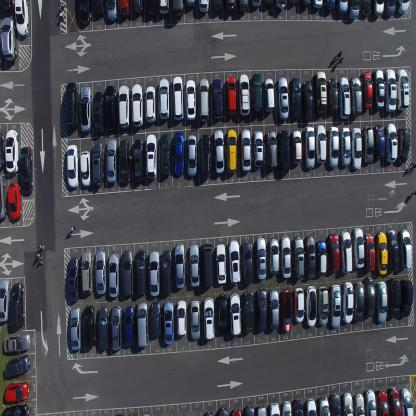car: (1, 15, 17, 61), (9, 281, 24, 329), (19, 146, 34, 194), (121, 249, 135, 298), (5, 354, 30, 379), (14, 0, 30, 38), (7, 182, 22, 222), (3, 332, 31, 353), (228, 239, 241, 284), (172, 74, 184, 122), (145, 132, 157, 180), (148, 250, 160, 298), (110, 304, 122, 352), (66, 144, 79, 188), (4, 380, 30, 402), (5, 129, 18, 173), (104, 85, 116, 132), (80, 85, 92, 132), (135, 249, 147, 296), (280, 289, 293, 332), (340, 230, 353, 273), (387, 230, 400, 273), (173, 130, 185, 176), (277, 75, 289, 121), (315, 70, 327, 116), (131, 82, 143, 128), (92, 141, 104, 187), (95, 249, 107, 295), (68, 256, 80, 302), (83, 304, 95, 350), (70, 306, 82, 352), (203, 296, 215, 341), (238, 73, 250, 118), (256, 287, 268, 332), (230, 292, 242, 337), (329, 283, 341, 328), (293, 235, 305, 280), (375, 230, 387, 275), (278, 129, 290, 174), (290, 75, 302, 120), (385, 67, 397, 112), (118, 84, 130, 129), (66, 82, 78, 127), (108, 252, 120, 297), (81, 250, 93, 295), (98, 305, 110, 350), (251, 72, 263, 116), (188, 243, 200, 287), (202, 241, 213, 289), (342, 280, 354, 324), (353, 226, 365, 270), (301, 78, 313, 122), (119, 140, 131, 184), (137, 300, 148, 348), (350, 126, 362, 170), (399, 228, 412, 268), (226, 127, 237, 174), (161, 249, 172, 296), (225, 75, 237, 118), (268, 289, 280, 332), (338, 75, 350, 118), (397, 68, 409, 111), (132, 139, 144, 182), (213, 128, 224, 174), (200, 133, 211, 179), (106, 138, 117, 184), (174, 244, 185, 290), (163, 300, 174, 346), (0, 277, 11, 323), (215, 242, 227, 284), (305, 284, 317, 326), (388, 276, 400, 318), (158, 78, 170, 120), (123, 305, 135, 347), (240, 127, 251, 172), (242, 240, 253, 285), (243, 289, 254, 334), (305, 234, 316, 279), (304, 125, 315, 170), (79, 149, 92, 187), (317, 285, 329, 326), (328, 232, 340, 273), (364, 232, 376, 273), (350, 76, 362, 117), (386, 122, 398, 163), (280, 235, 291, 279), (376, 280, 387, 324), (93, 90, 104, 134), (397, 126, 410, 163), (315, 124, 327, 164), (339, 127, 351, 167), (212, 76, 223, 119), (185, 78, 196, 121), (256, 237, 267, 280), (364, 275, 375, 318), (373, 67, 384, 110), (160, 133, 171, 176), (362, 125, 374, 164), (217, 294, 228, 336), (328, 126, 339, 168), (199, 77, 209, 123), (263, 77, 275, 114), (187, 134, 197, 178), (401, 277, 412, 317), (266, 129, 277, 169), (293, 287, 305, 323), (354, 280, 364, 323), (253, 129, 264, 168), (176, 299, 187, 338), (190, 299, 200, 341), (387, 386, 401, 416), (269, 237, 280, 275), (327, 77, 338, 115), (362, 70, 372, 110), (291, 129, 302, 165), (400, 387, 414, 415), (317, 238, 327, 276), (145, 86, 155, 124), (151, 300, 161, 338), (374, 124, 385, 158), (376, 388, 389, 415), (78, 0, 92, 25), (3, 403, 30, 415), (364, 388, 376, 415), (0, 174, 7, 220), (317, 395, 331, 415), (342, 392, 354, 415), (106, 0, 118, 22), (330, 392, 341, 415), (172, 0, 185, 19), (348, 0, 360, 20), (354, 392, 364, 416), (384, 0, 397, 18), (372, 0, 385, 18), (360, 0, 372, 18), (145, 0, 157, 18), (118, 0, 130, 18), (92, 0, 104, 18), (305, 397, 317, 415), (396, 0, 409, 16), (293, 398, 304, 416), (0, 0, 15, 13), (336, 0, 348, 16), (158, 0, 169, 17), (198, 0, 210, 15), (224, 0, 236, 14), (132, 0, 144, 14), (281, 400, 292, 415), (269, 401, 280, 415), (0, 130, 4, 168), (324, 0, 335, 13), (238, 0, 249, 13), (312, 0, 323, 11), (275, 0, 286, 11), (244, 404, 255, 415), (256, 404, 267, 415), (213, 0, 223, 12), (217, 406, 228, 416), (299, 0, 311, 9), (250, 0, 261, 8), (185, 0, 196, 8), (288, 0, 298, 8), (264, 0, 274, 8), (231, 407, 241, 415), (202, 410, 214, 416)
